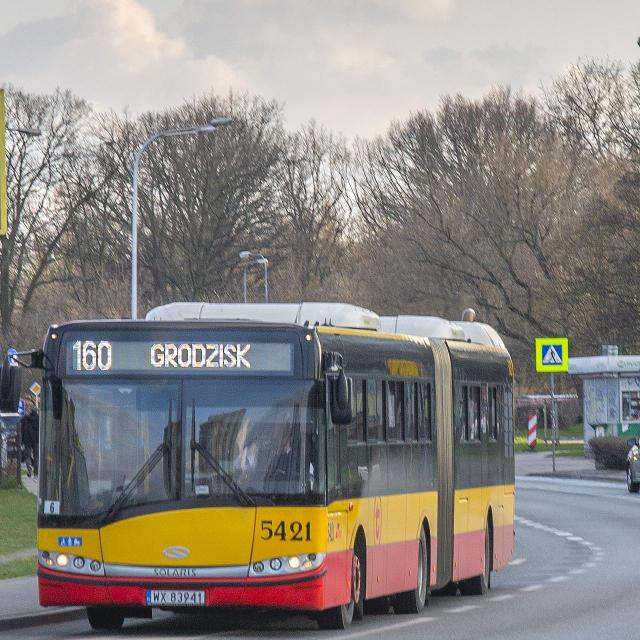Bus: (28, 303, 516, 631)
Electric pole: (130, 118, 231, 320)
